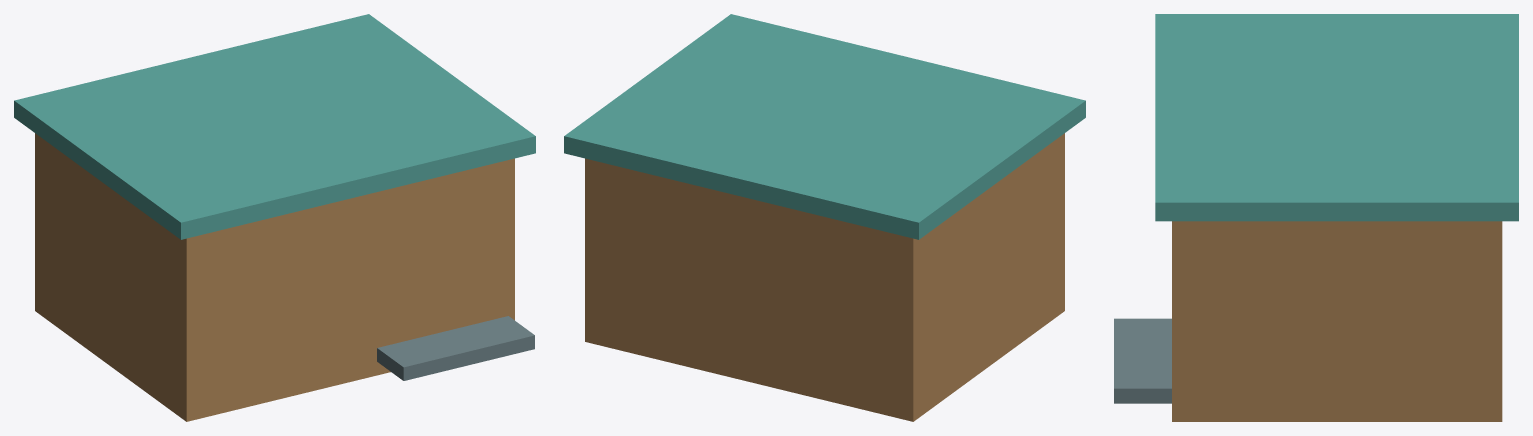
The model's file is agricultural-robotics-workshop.source.glb.
3 renders of one model, left to right at view 1: azimuth 30°, elevation 25°; view 2: azimuth 150°, elevation 25°; view 3: azimuth 270°, elevation 25°, orthographic. The views are drawn at different scales.
Parts seen in each view (by area): view 1: agricultural-robotics-workshop-building-mesh, agricultural-robotics-workshop-roof-mesh, agricultural-robotics-workshop-service-bay-mesh; view 2: agricultural-robotics-workshop-building-mesh, agricultural-robotics-workshop-roof-mesh; view 3: agricultural-robotics-workshop-roof-mesh, agricultural-robotics-workshop-building-mesh, agricultural-robotics-workshop-service-bay-mesh.
Part boxes in pixels (x1=…): agricultural-robotics-workshop-building-mesh: x1=35, y1=133, x2=514, y2=421; agricultural-robotics-workshop-roof-mesh: x1=14, y1=14, x2=535, y2=239; agricultural-robotics-workshop-service-bay-mesh: x1=377, y1=316, x2=534, y2=380; agricultural-robotics-workshop-building-mesh: x1=585, y1=133, x2=1064, y2=421; agricultural-robotics-workshop-roof-mesh: x1=564, y1=14, x2=1085, y2=239; agricultural-robotics-workshop-roof-mesh: x1=1155, y1=14, x2=1518, y2=221; agricultural-robotics-workshop-building-mesh: x1=1172, y1=221, x2=1502, y2=421; agricultural-robotics-workshop-service-bay-mesh: x1=1114, y1=318, x2=1171, y2=403.
Bounding box in the file's own units: 5.4 × 3.02 × 4.9.
